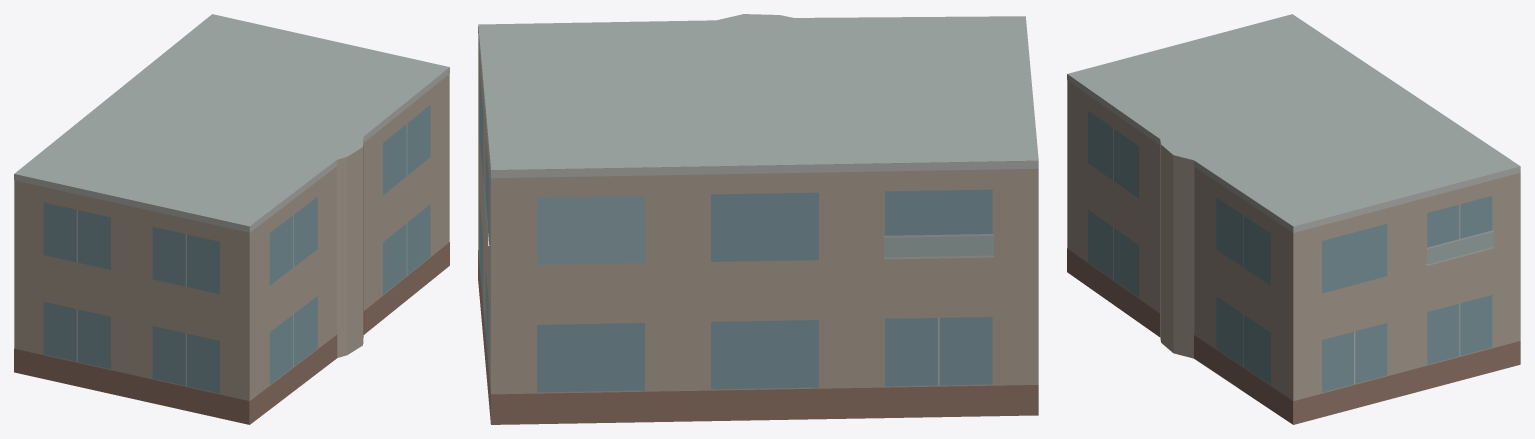
Rendered from survey-upis-32922672.glb.
3 renders of one model, left to right at view 1: azimuth 30°, elevation 25°; view 2: azimuth 150°, elevation 25°; view 3: azimuth 270°, elevation 25°, orthographic. The views are drawn at different scales.
Visible parts, largest first — view 1: survey-upis-32922672.tmp; view 2: survey-upis-32922672.tmp; view 3: survey-upis-32922672.tmp.
Boxes of the visible parts, x1,y1,x2,y2 form: survey-upis-32922672.tmp: (14, 14, 449, 424); survey-upis-32922672.tmp: (478, 14, 1038, 424); survey-upis-32922672.tmp: (1067, 14, 1520, 424).
Bounding box in the file's own units: 17.49 × 7.6 × 15.76.
